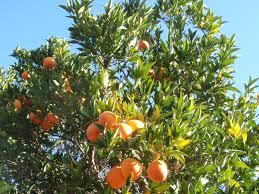orange: (145, 157, 170, 182), (95, 109, 120, 132), (122, 156, 145, 179), (84, 122, 106, 144), (104, 167, 125, 188), (115, 122, 134, 144)
